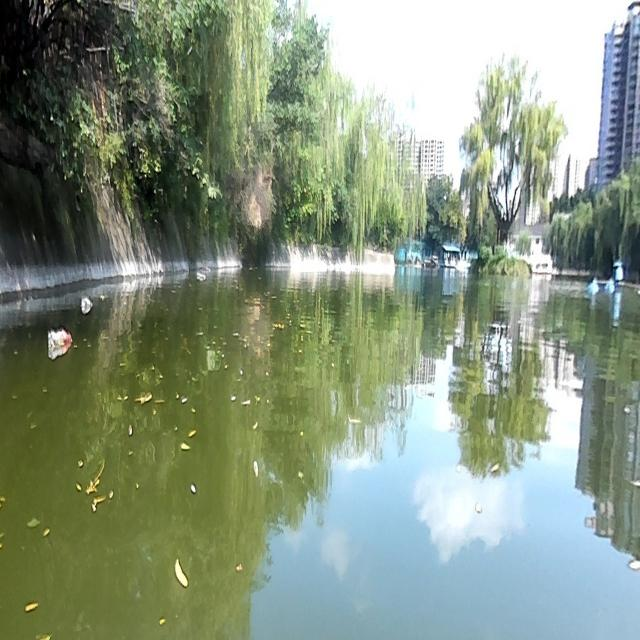bottle: (44, 324, 72, 352), (79, 293, 93, 310)
